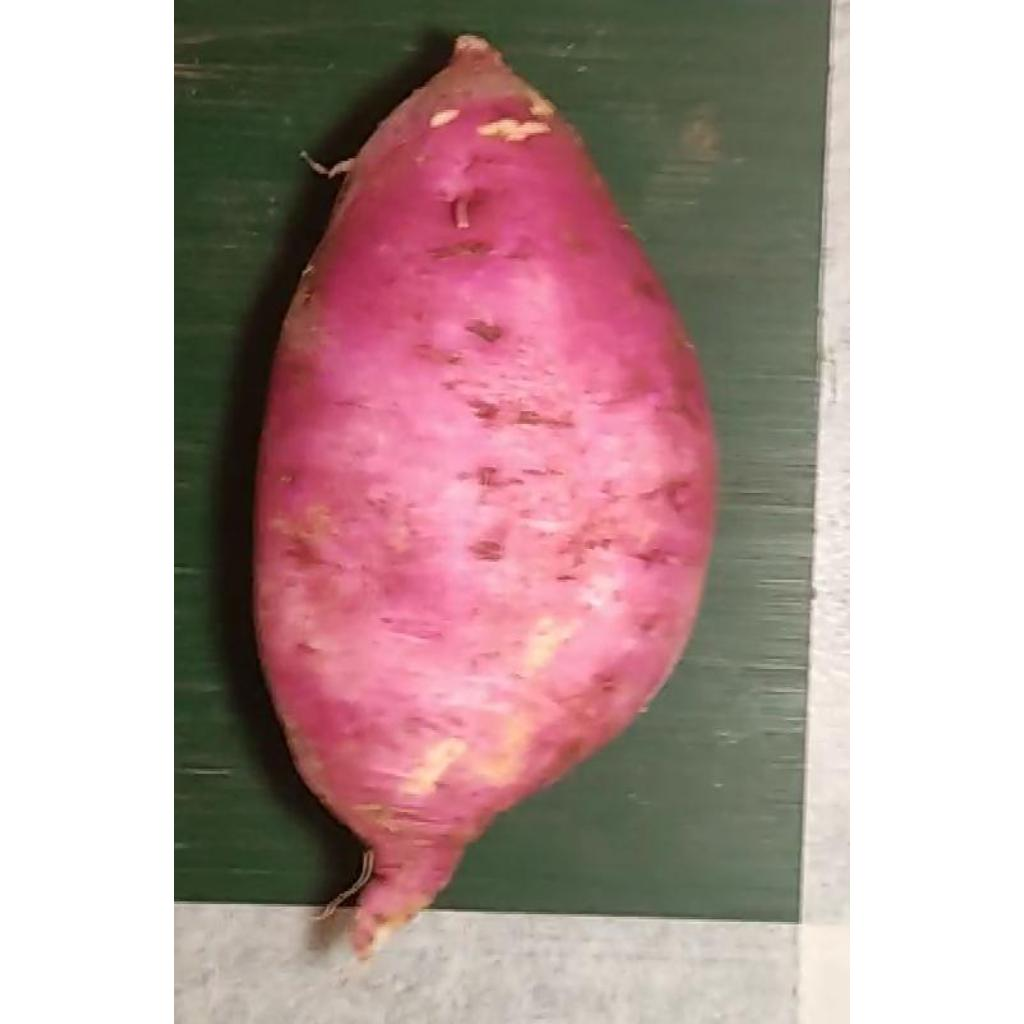Sweet Potato: (252, 37, 718, 942)
